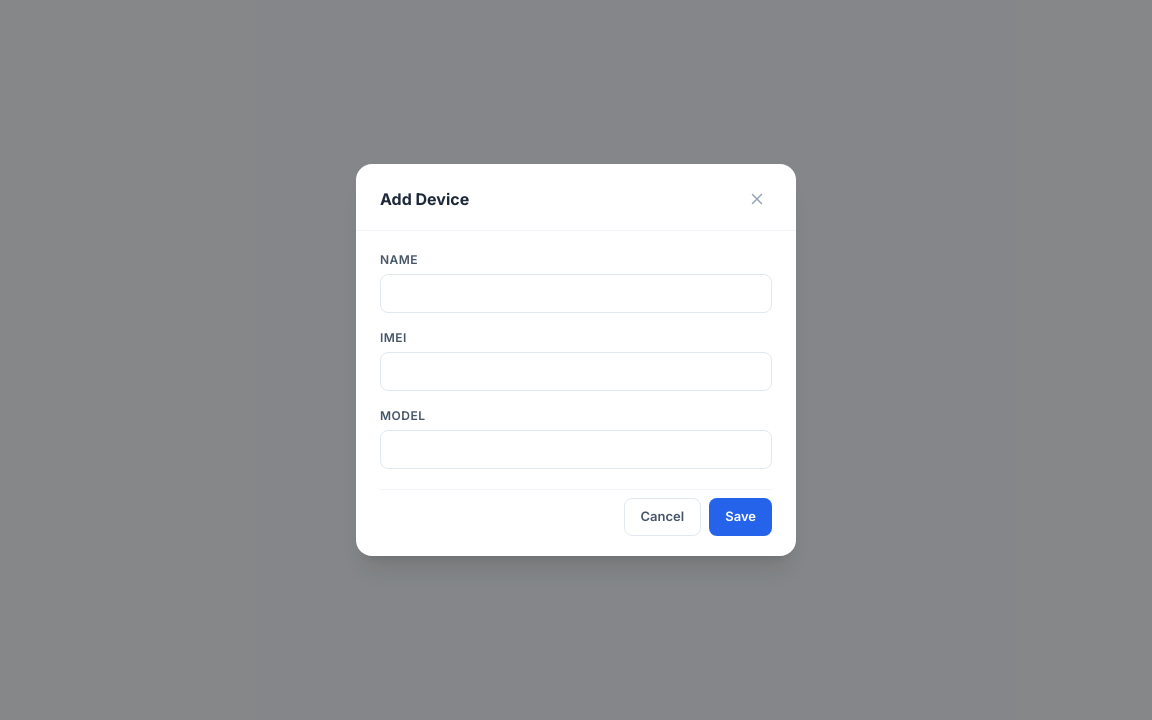
DeviceFormModal — create mode › shows validation error when name is empty
Type "123456789012345" into the field labelled "IMEI".
click(576, 372); type("123456789012345")  # box [380,352,772,391]
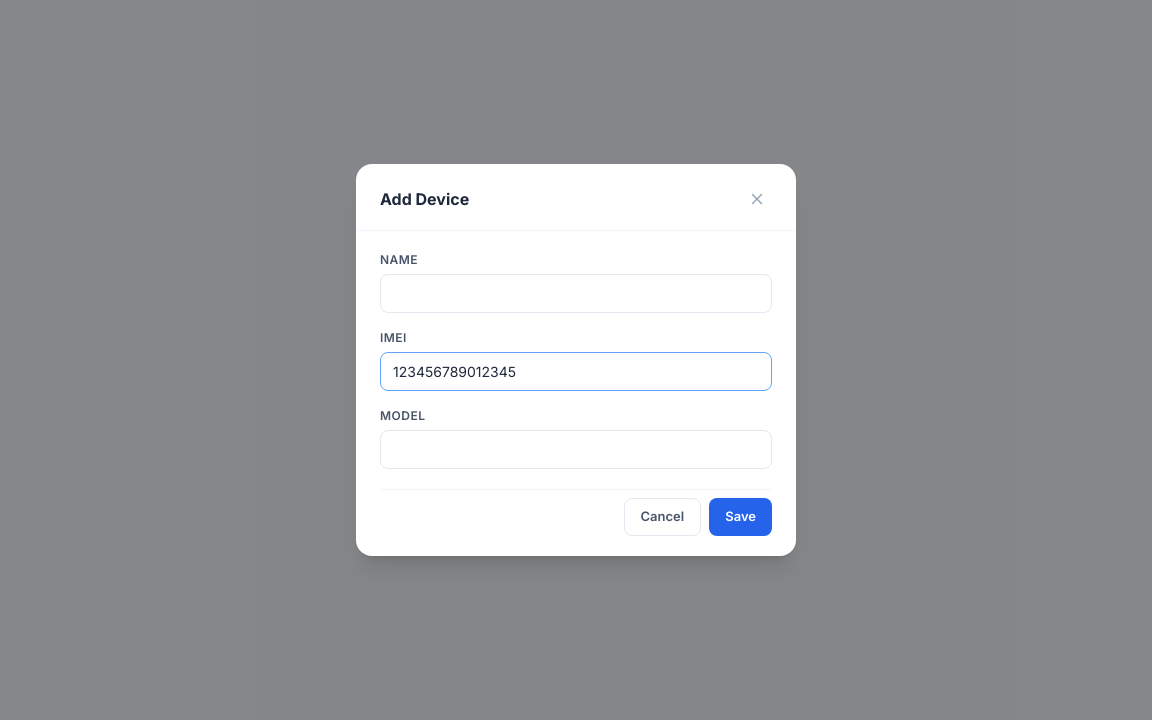
Click the button "Save".
click(741, 517)  # box [709,498,772,536]
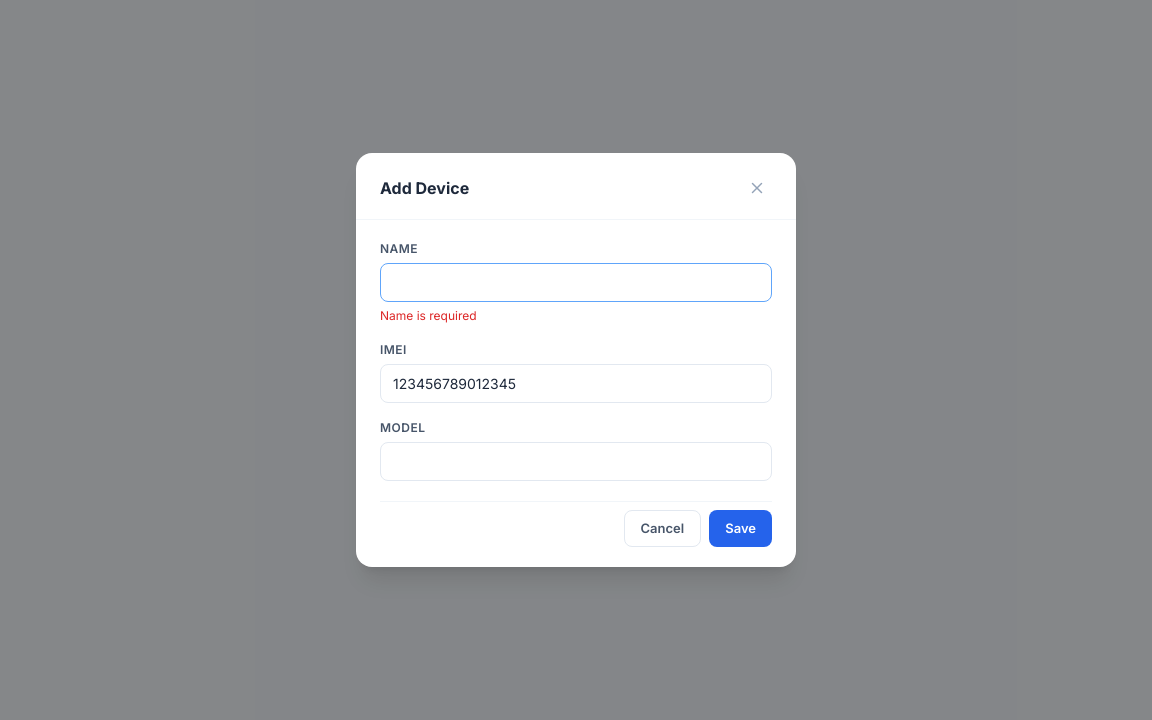
Check: the text "Name is required" is shown, box [380,308,477,323]
